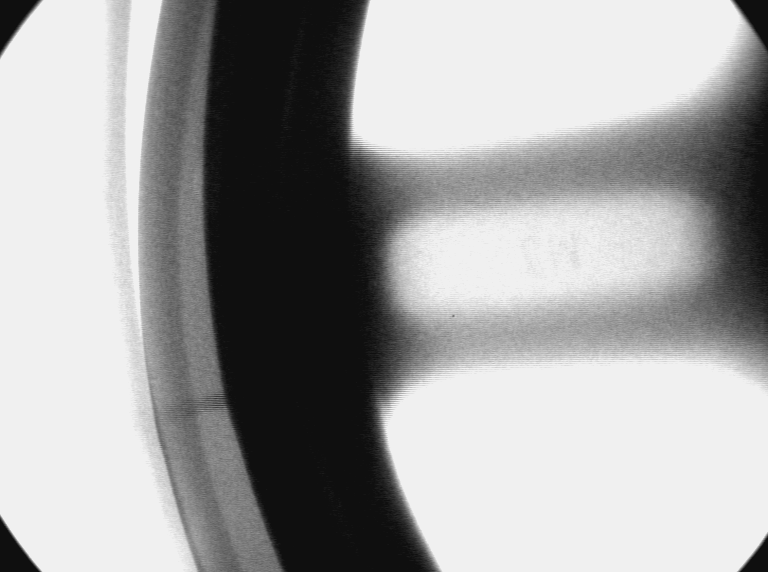defect: (187, 156, 211, 208)
